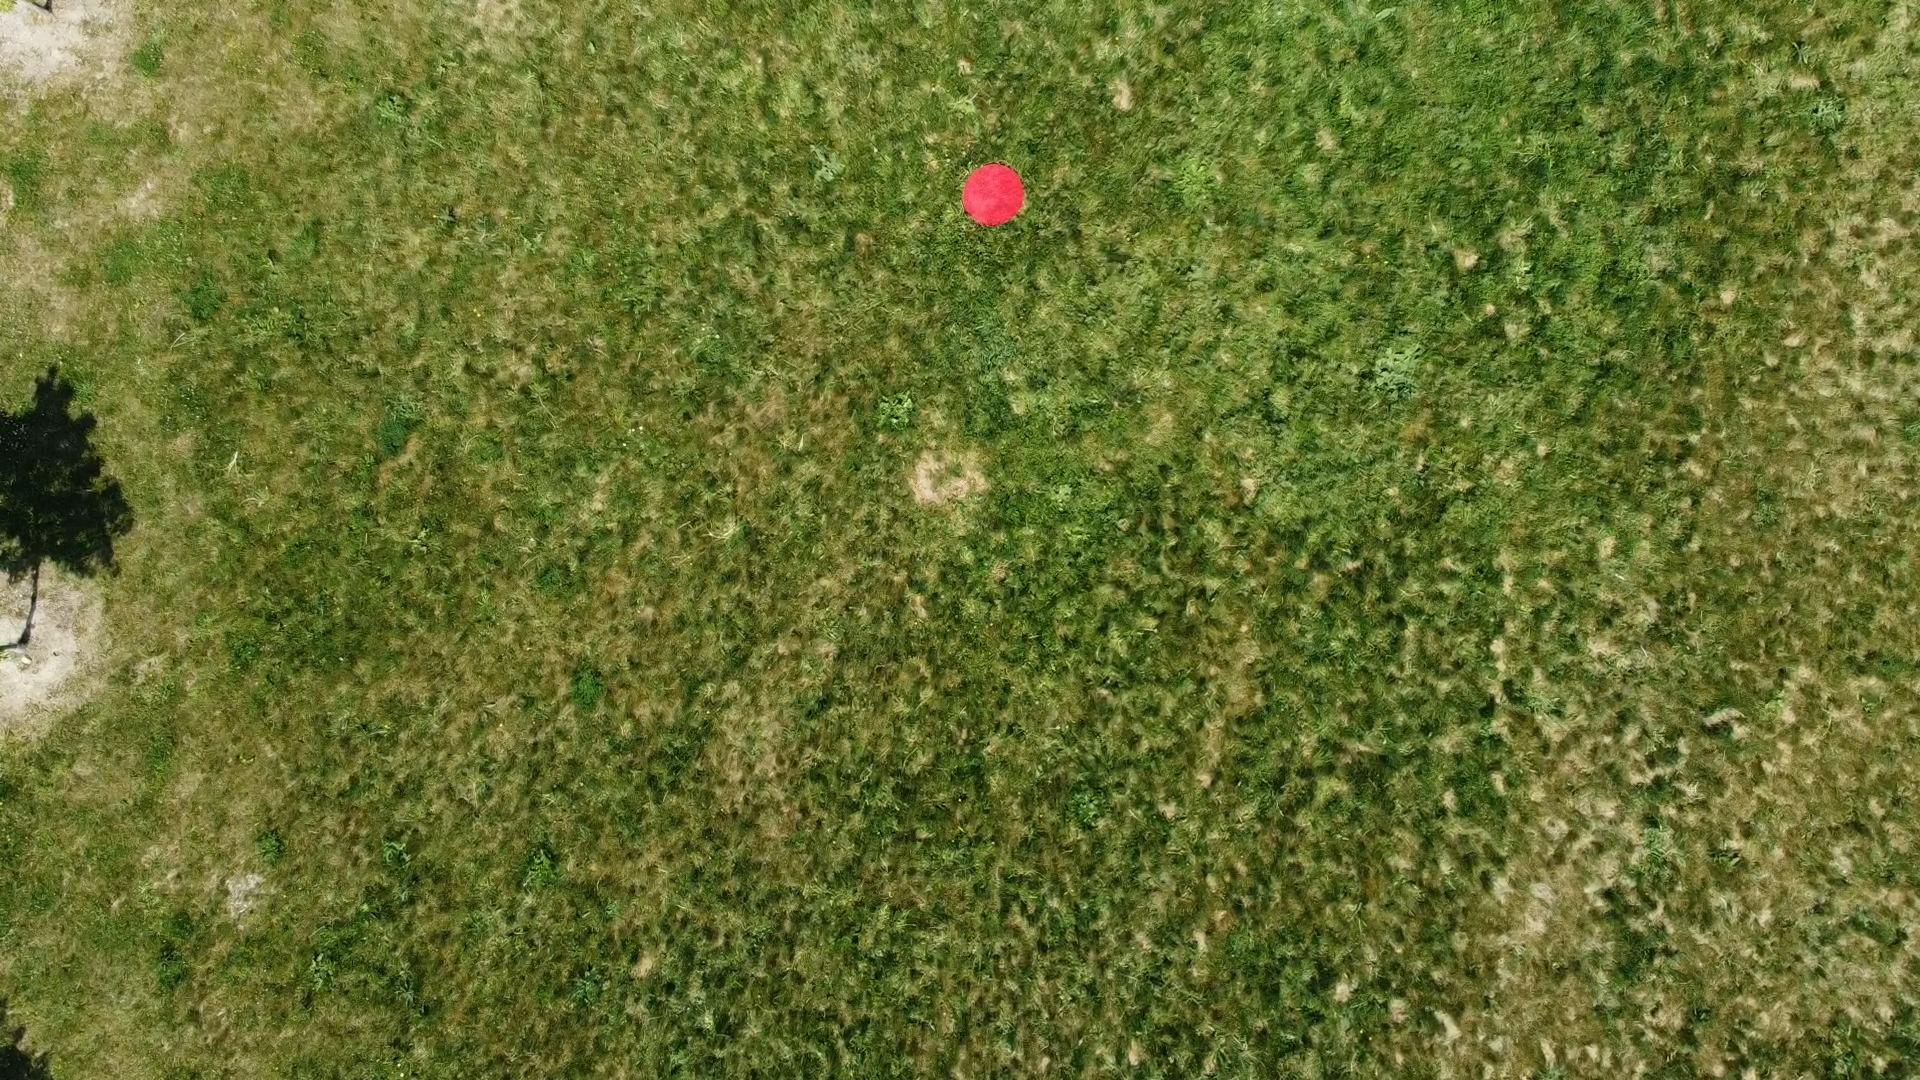Red: (959, 160, 1027, 228)
